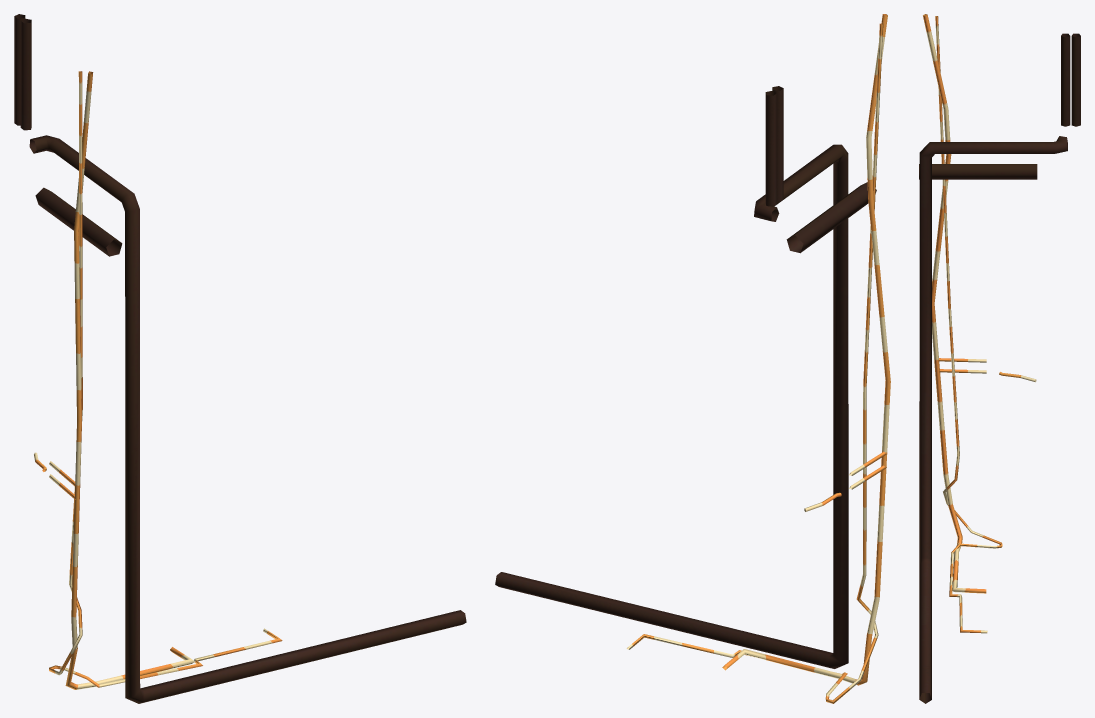
File: sundries_29_0a7db308__ZombiesII_depot_diffuse_03_573b45f4_c1f257.obj
3 views of the same model, side by side, from view 1: azimuth 30°, elevation 25°; view 2: azimuth 150°, elevation 25°; view 3: azimuth 270°, elevation 25° (orthographic). The views are drawn at different scales.
Bounding box in the file's own units: 11.15 × 17.95 × 4.9.
1 material, 1 textured.
